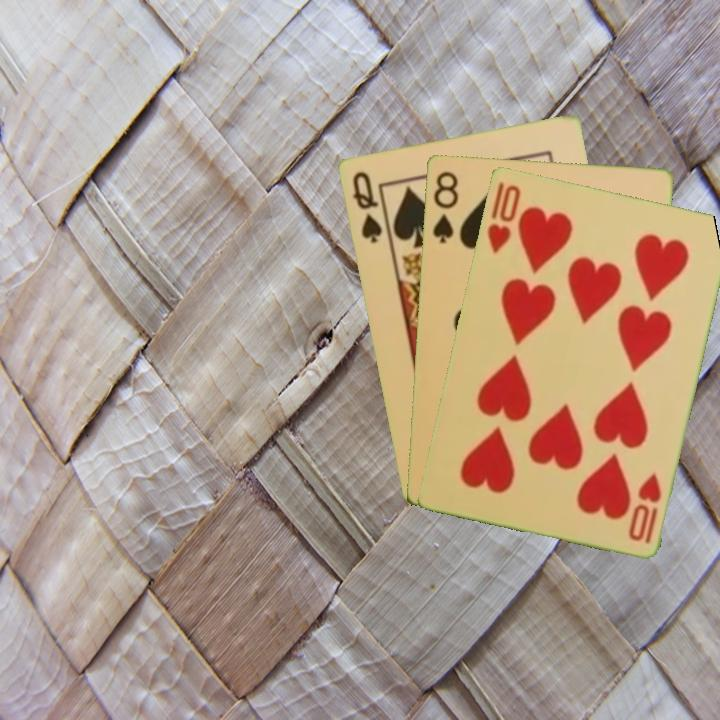10h: (483, 178, 524, 256), (624, 469, 664, 546)
8s: (429, 167, 461, 246)
Qs: (348, 167, 385, 246)
